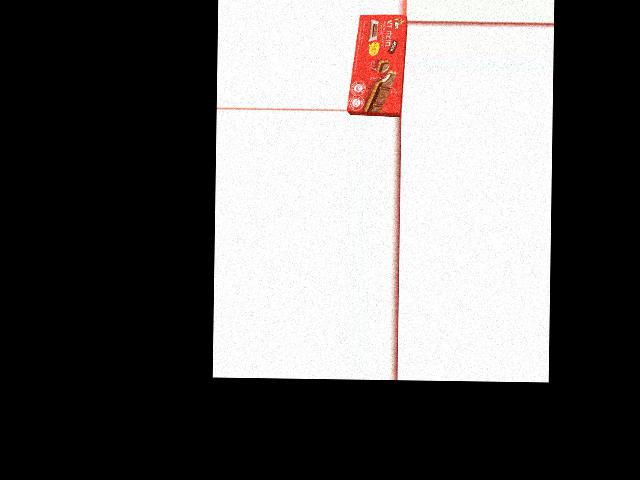chocolate: (352, 13, 403, 116)
